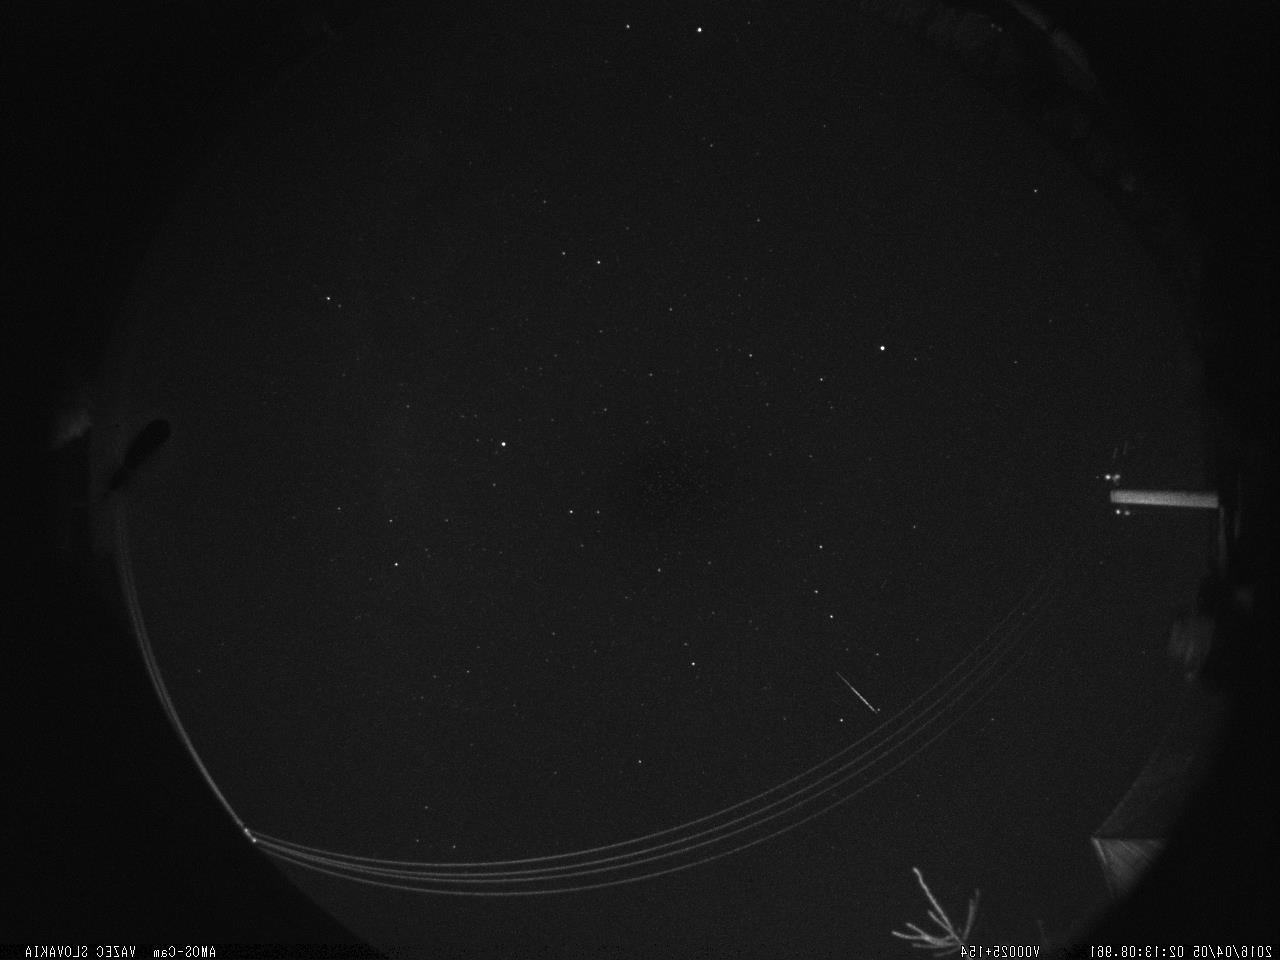meteor: (824, 663, 893, 722)
